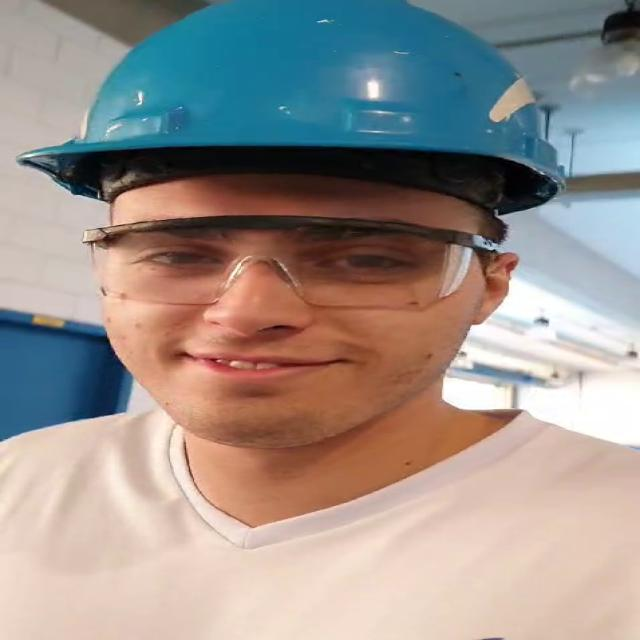oculos-epi: (83, 215, 482, 310)
